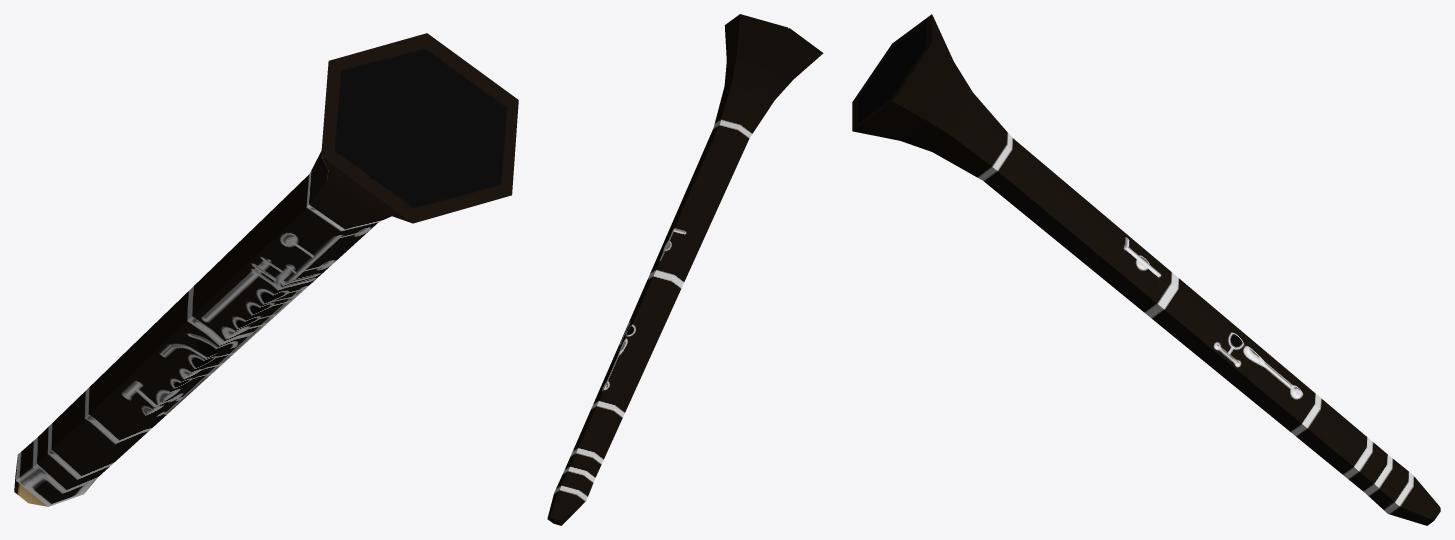
File: Flauta3_000013.obj
The picture shows the model from 3 angles, left to right: view 1: azimuth 30°, elevation 25°; view 2: azimuth 150°, elevation 25°; view 3: azimuth 270°, elevation 25°; orthographic projection. The views are drawn at different scales.
Parts seen in each view (by area): view 1: flauta3_f3_Flauta_3:Flauta_2:Flauta_1:pCylinder3; view 2: flauta3_f3_Flauta_3:Flauta_2:Flauta_1:pCylinder3; view 3: flauta3_f3_Flauta_3:Flauta_2:Flauta_1:pCylinder3.
Part boxes in pixels (x1,y1,x2,y2): flauta3_f3_Flauta_3:Flauta_2:Flauta_1:pCylinder3: (14, 33, 518, 506); flauta3_f3_Flauta_3:Flauta_2:Flauta_1:pCylinder3: (547, 14, 823, 525); flauta3_f3_Flauta_3:Flauta_2:Flauta_1:pCylinder3: (852, 14, 1440, 525).
Size of the model in its own units: 1.19 by 4.28 by 4.7.
